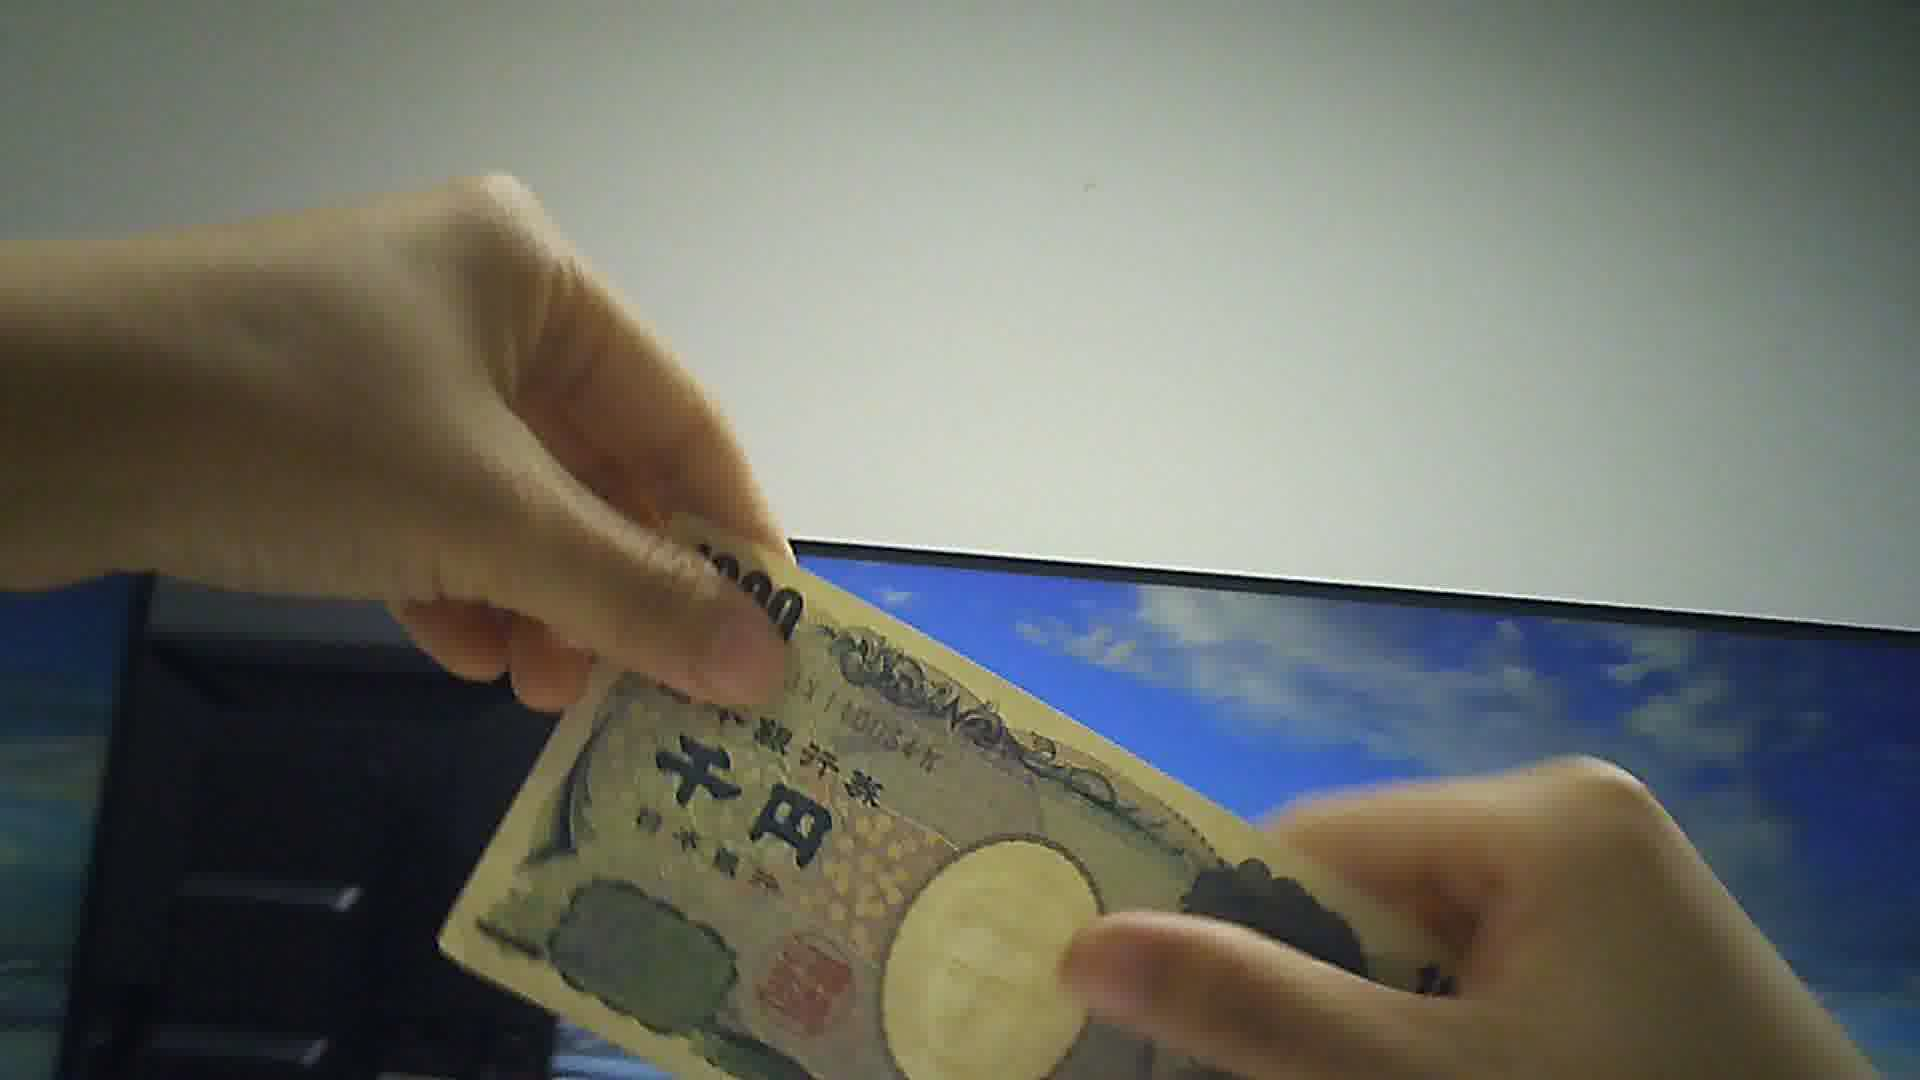1,000 Yen: (415, 493, 1412, 1079)
